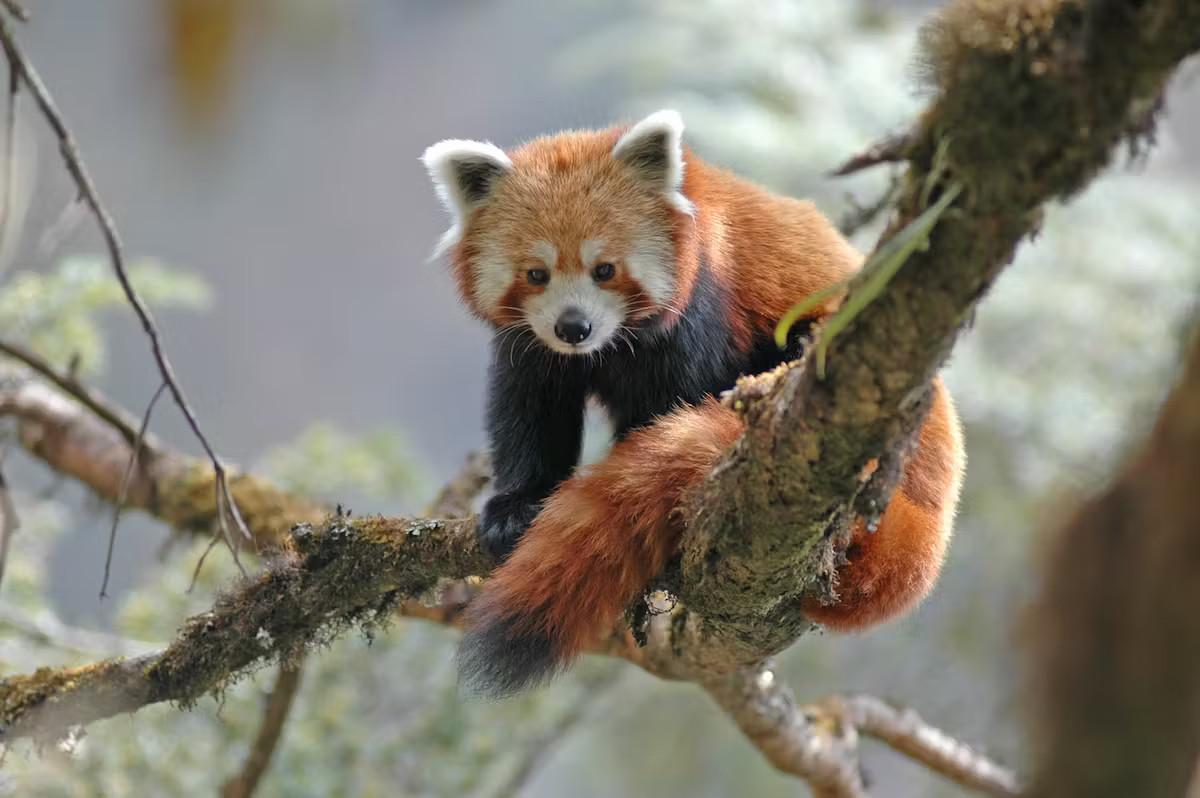Red panda: (407, 109, 708, 362)
